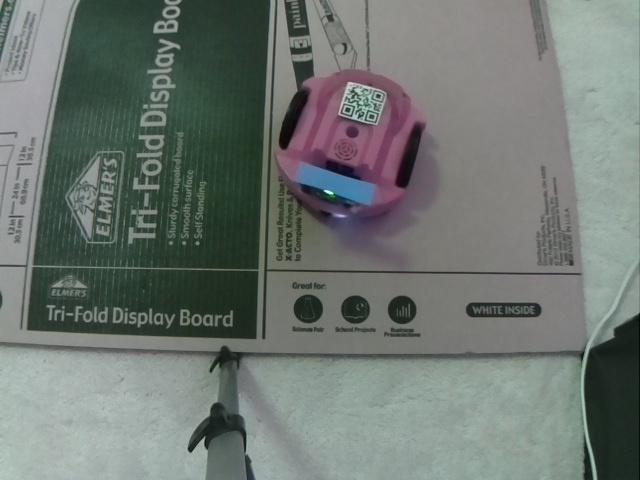chassis: (275, 66, 426, 224)
qr: (337, 79, 388, 126)
